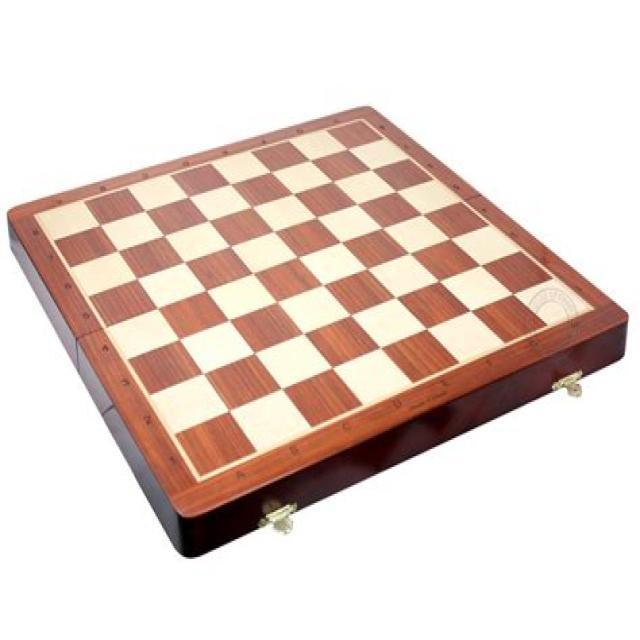chess-table-corners: (182, 452, 225, 497), (574, 292, 603, 326), (26, 204, 48, 229), (352, 110, 372, 132)
